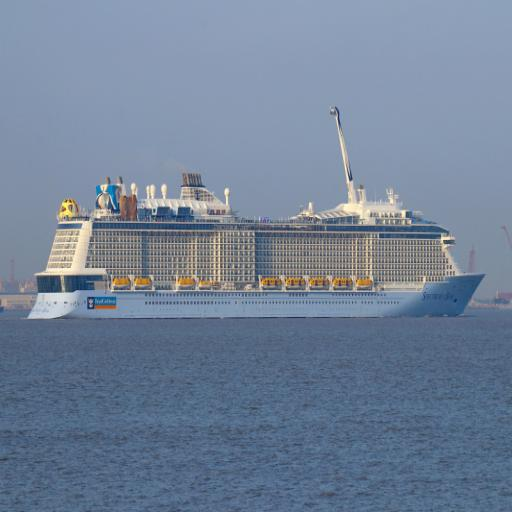cruises: (26, 104, 488, 335)
